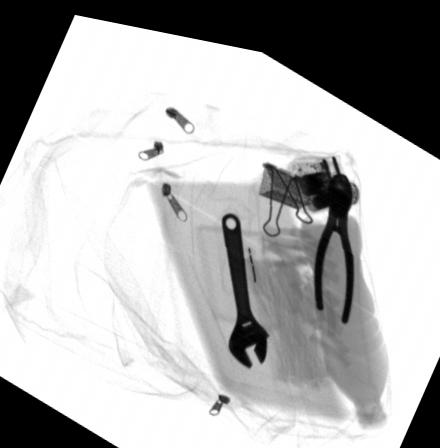Pliers: (312, 158, 354, 309)
Wrench: (220, 201, 270, 358)
